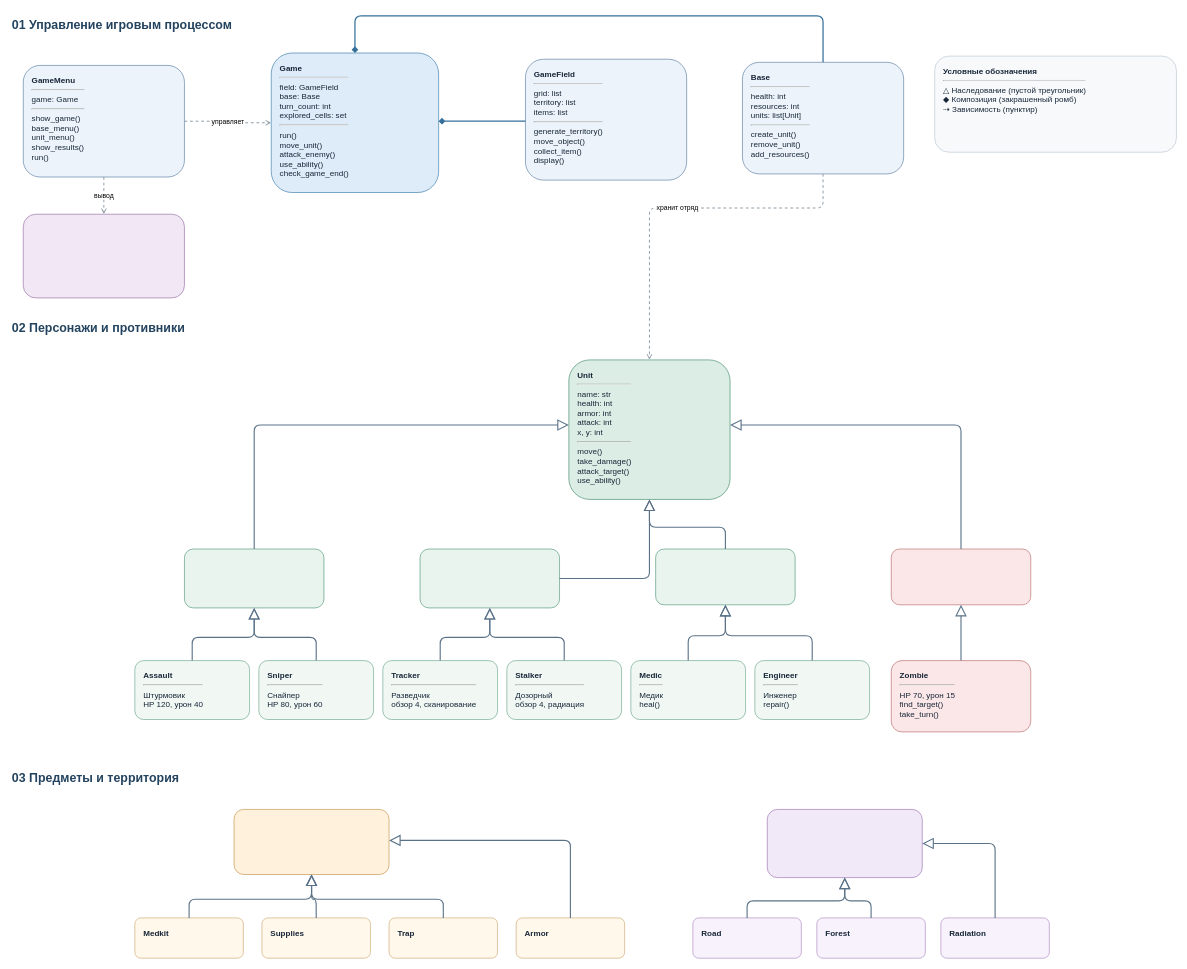
The diagram is 1187 pixels wide and 969 high, and some of its shapes have lost their labels. Here are the shapes that lost their labels. From the top down, the centre of each, then its label:
point 103,256: GameText COLORS: dict PHRASES: dict event() character()
point 254,578: Fighter(Unit) use_ability() усиленная атака
point 489,578: Scout(Unit) use_ability() разведка
point 725,576: Support(Unit) поддержка отряда
point 961,576: Enemy(Unit) противник
point 311,842: NeutralObject name, symbol interact(unit)
point 844,843: Territory name, symbol on_enter(unit) on_leave(unit)
